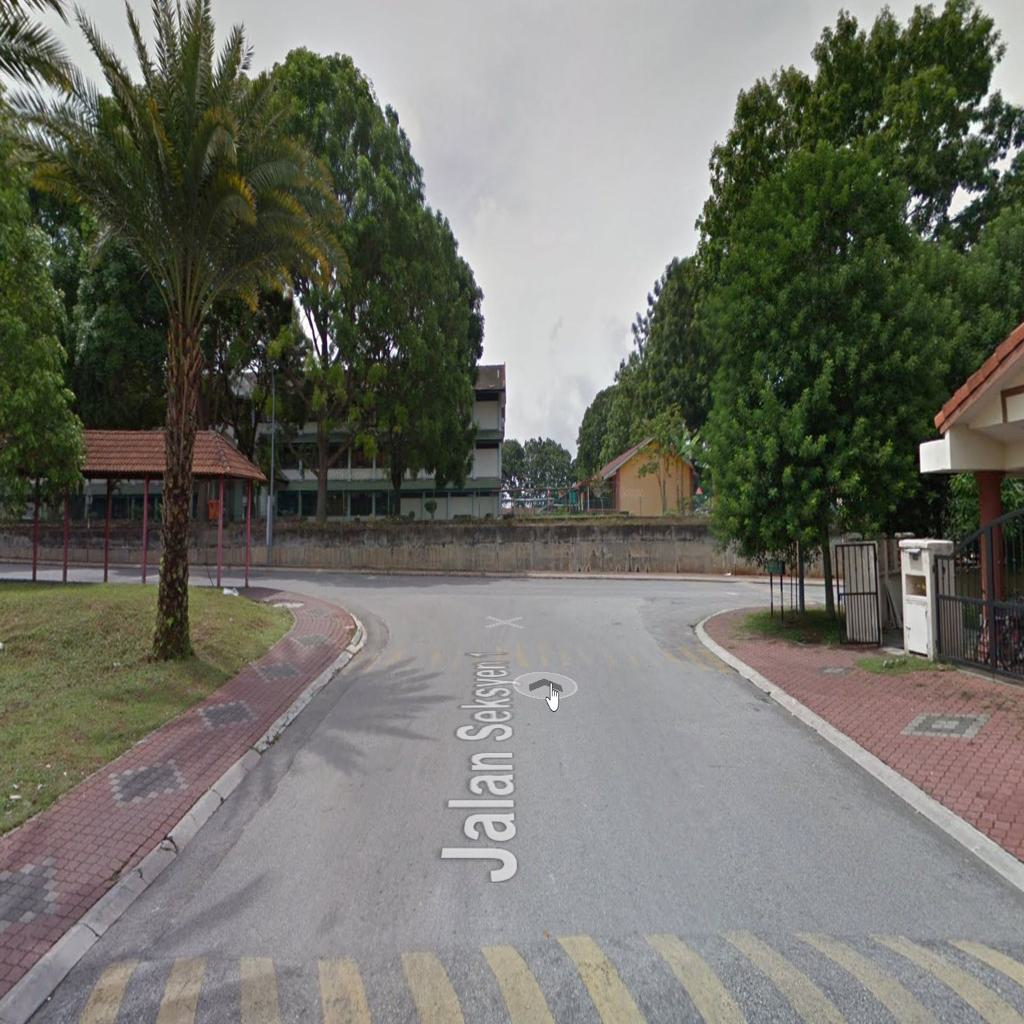Junction: (187, 497, 440, 659), (653, 540, 840, 642)
